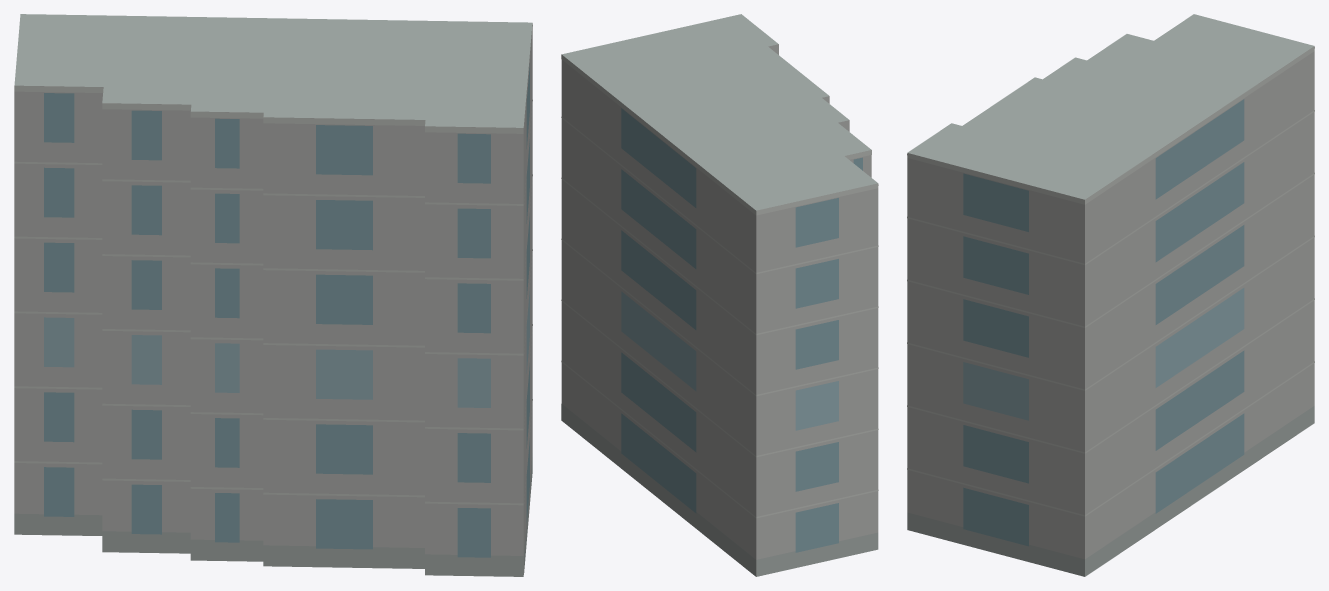
Rendered from survey-upis-32791318.glb.
The picture shows the model from 3 angles, left to right: view 1: azimuth 30°, elevation 25°; view 2: azimuth 150°, elevation 25°; view 3: azimuth 270°, elevation 25°; orthographic projection. The views are drawn at different scales.
Parts seen in each view (by area): view 1: survey-upis-32791318.tmp; view 2: survey-upis-32791318.tmp; view 3: survey-upis-32791318.tmp.
Boxes of the visible parts, x1,y1,x2,y2 form: survey-upis-32791318.tmp: (14,14,532,576); survey-upis-32791318.tmp: (561,14,878,576); survey-upis-32791318.tmp: (907,14,1314,576).
Size of the model in its own units: 19.25 by 18.2 by 17.84.
